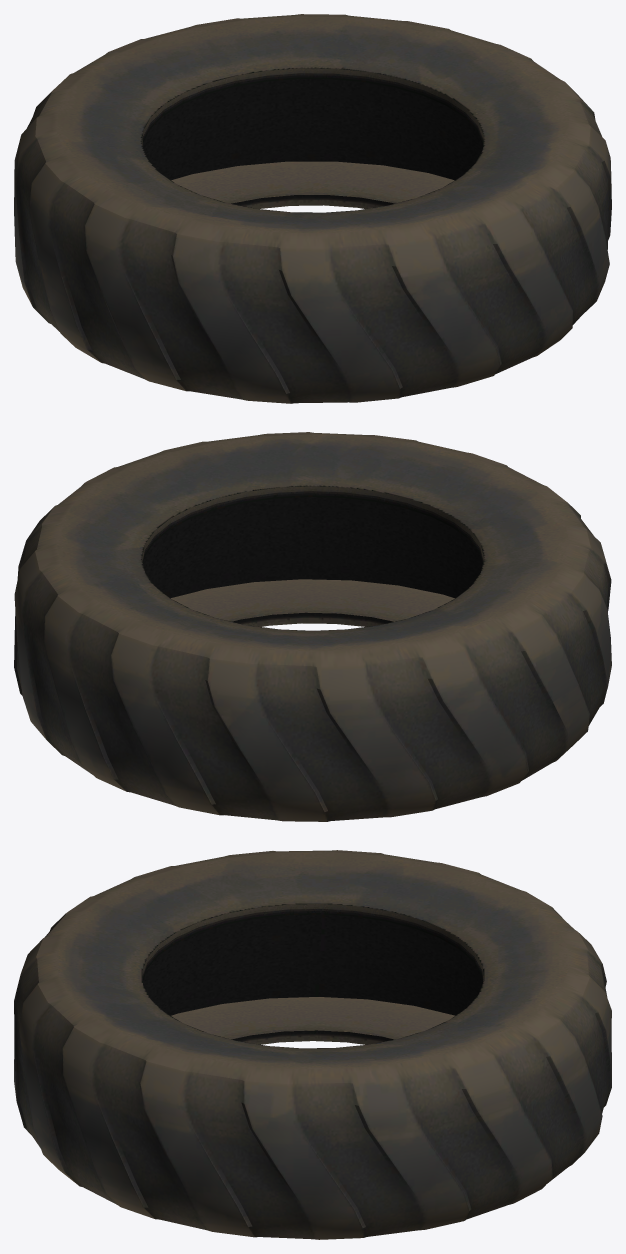
Rendered from tractor_tyre.dae.
3 renders of one model, top to bottom at view 1: azimuth 30°, elevation 25°; view 2: azimuth 150°, elevation 25°; view 3: azimuth 270°, elevation 25°, orthographic.
Visible parts, largest first — view 1: tractor_tire001; view 2: tractor_tire001; view 3: tractor_tire001.
Boxes of the visible parts, x1,y1,x2,y2 form: tractor_tire001: [14, 14, 611, 403]; tractor_tire001: [14, 432, 611, 821]; tractor_tire001: [14, 850, 611, 1239].
Size of the model in its own units: 2.46 by 2.46 by 0.762.
1 material, 1 textured.
